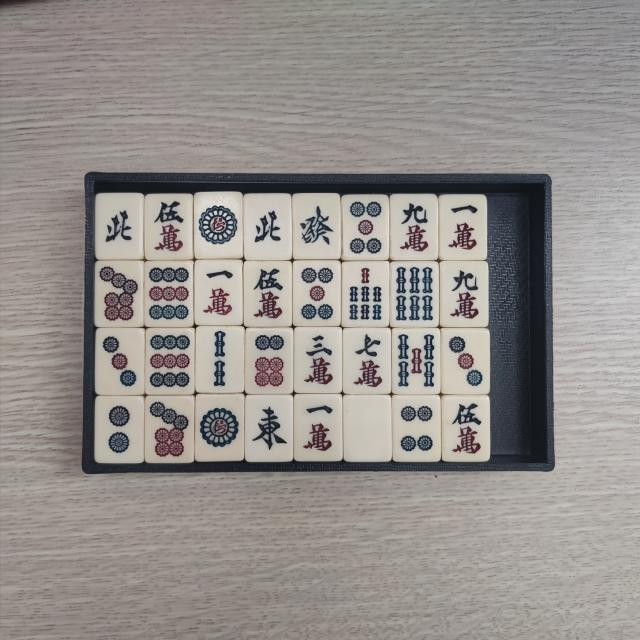hdg: (297, 196, 337, 255)
hdw: (348, 401, 386, 458)
hwe: (250, 398, 290, 458)
hwn: (101, 198, 140, 254), (248, 197, 286, 254)
sb2: (199, 330, 241, 390)
sb5: (397, 332, 438, 391)
sb6: (394, 264, 436, 322)
sb7: (348, 264, 386, 323)
sc1: (299, 398, 338, 456), (200, 262, 238, 320), (445, 200, 482, 256)
sc3: (300, 331, 338, 388)
sc5: (248, 263, 287, 322), (151, 198, 190, 257), (448, 400, 486, 458)
sc7: (348, 331, 386, 391)
sc9: (446, 265, 484, 323), (394, 198, 432, 255)
sd1: (198, 398, 242, 458), (197, 195, 240, 253)
sd2: (99, 400, 140, 460)
sd3: (98, 332, 140, 392), (446, 332, 486, 390)
sd4: (399, 400, 437, 458)
sd5: (346, 198, 386, 256), (298, 264, 338, 322)
sd6: (252, 332, 290, 389)
sd7: (150, 400, 192, 460), (98, 264, 140, 324)
sd9: (148, 264, 192, 322), (150, 332, 192, 390)
